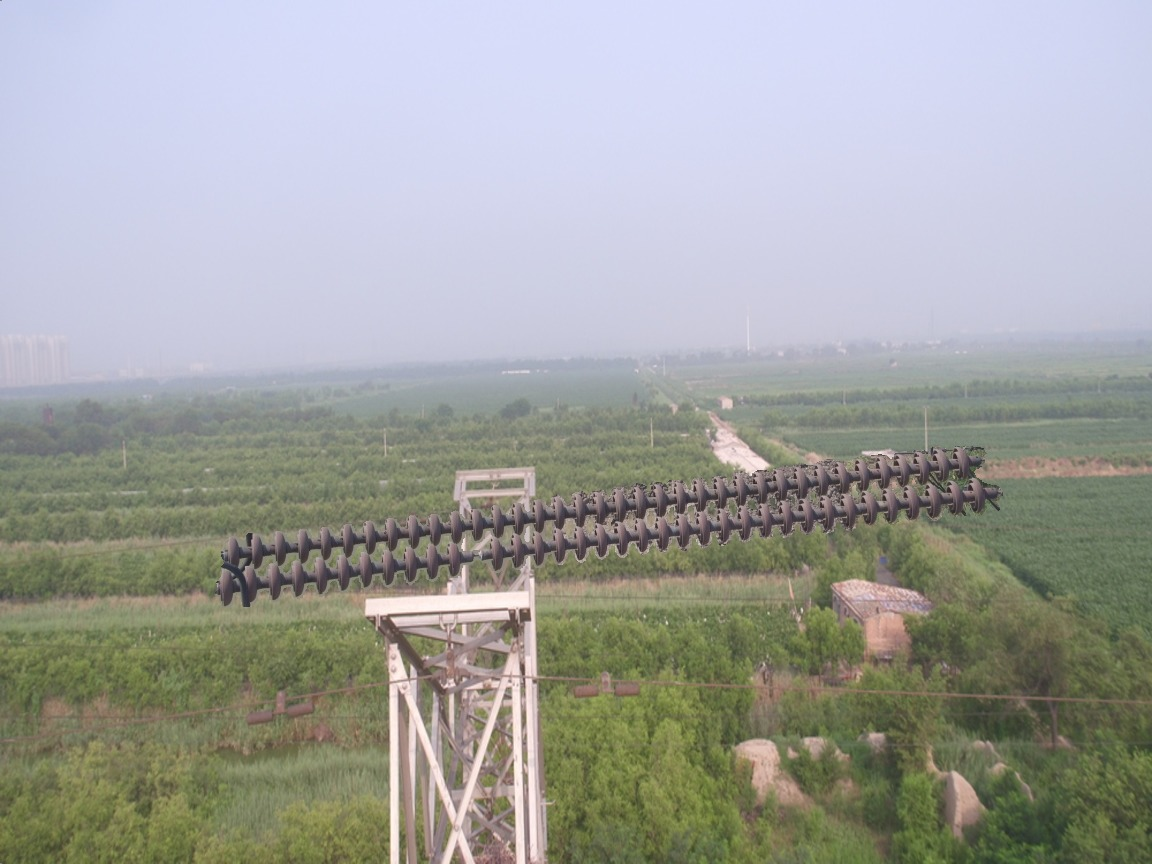defect: (438, 536, 513, 575)
